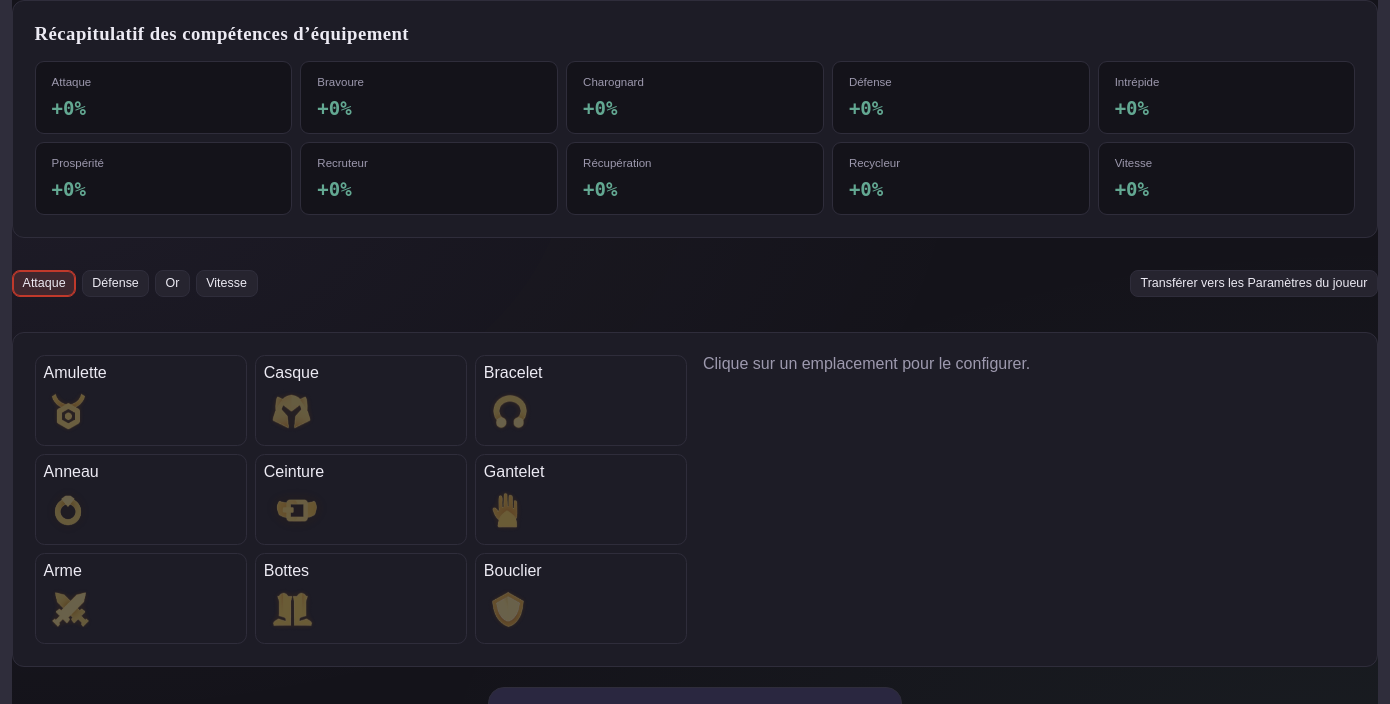
Test: equipment tools › keeps each family's own configuration independent while the global summary always aggregates all 4 (Bloc 32/D.2-D.3)
Click the button "Défense" at [116, 283], box left=82, top=270, right=149, bottom=297
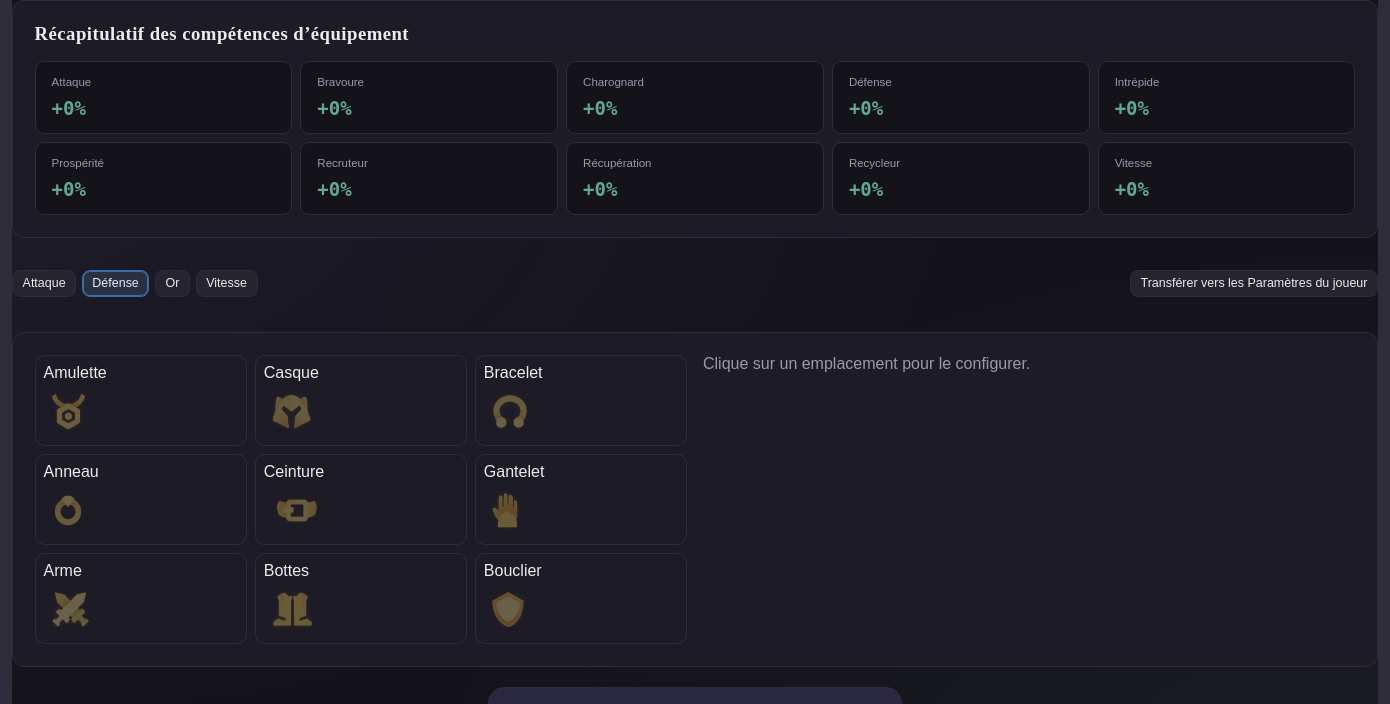
Click the button "Amulette" at [141, 400], box left=35, top=354, right=247, bottom=446
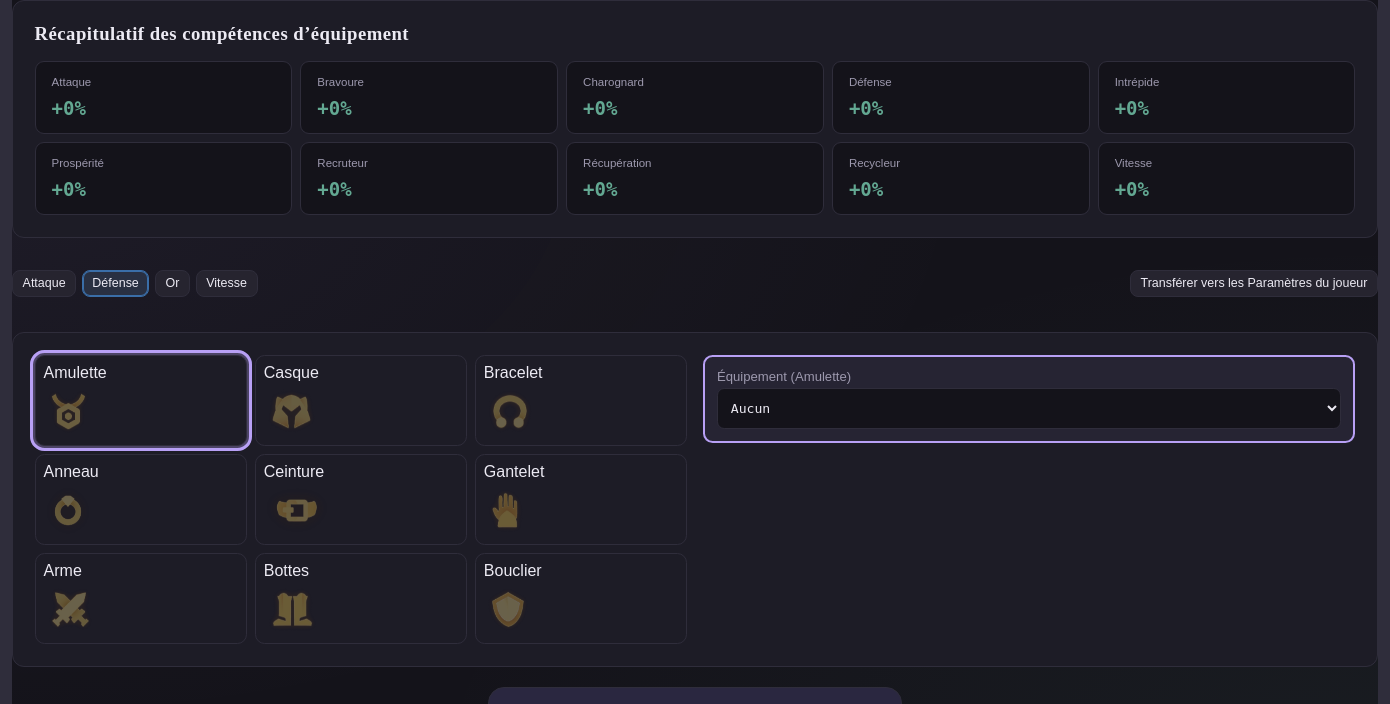
Select "Commun — Cap Test (Or)" in the dropdown named "Équipement Défense Amulette" at [1029, 409], box left=717, top=388, right=1341, bottom=429
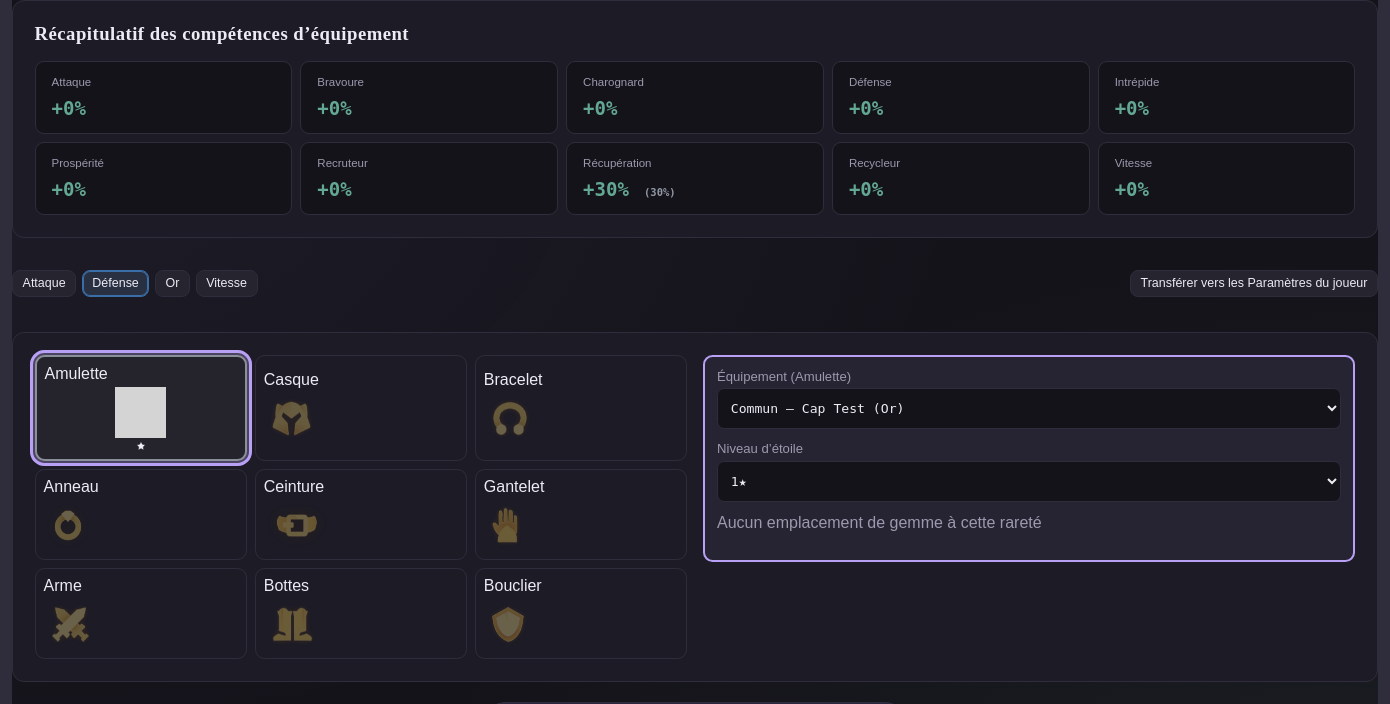
Expected: the picture named "1 étoiles" is shown, left=136, top=441, right=146, bottom=451
Expected: the text "Récupération" shows "+30%", left=566, top=142, right=824, bottom=215
Click the button "Attaque" at [44, 283], box left=12, top=270, right=76, bottom=297
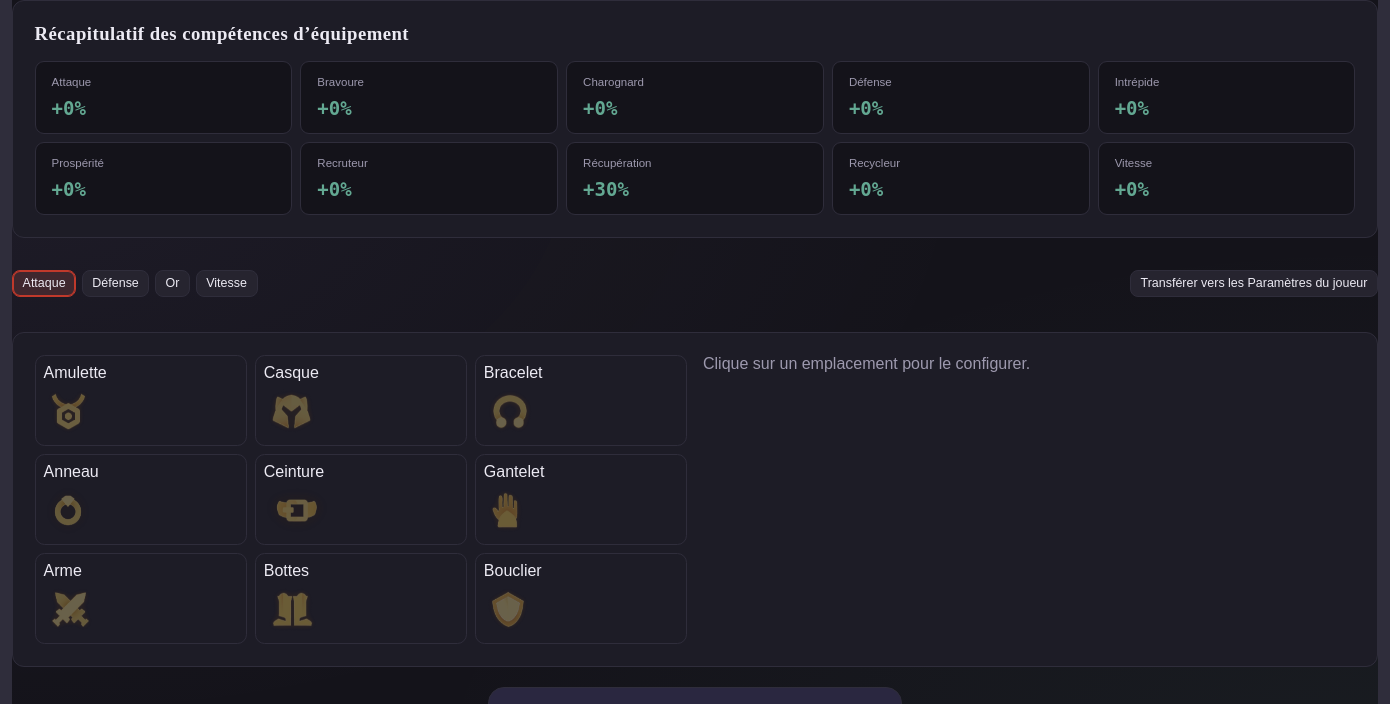
Expected: the text "Récupération" shows "+30%", left=566, top=142, right=824, bottom=215
Expected: the 1st picture named "Vide" is shown, left=44, top=386, right=93, bottom=437
Click the button "Défense" at [116, 283], box left=82, top=270, right=149, bottom=297
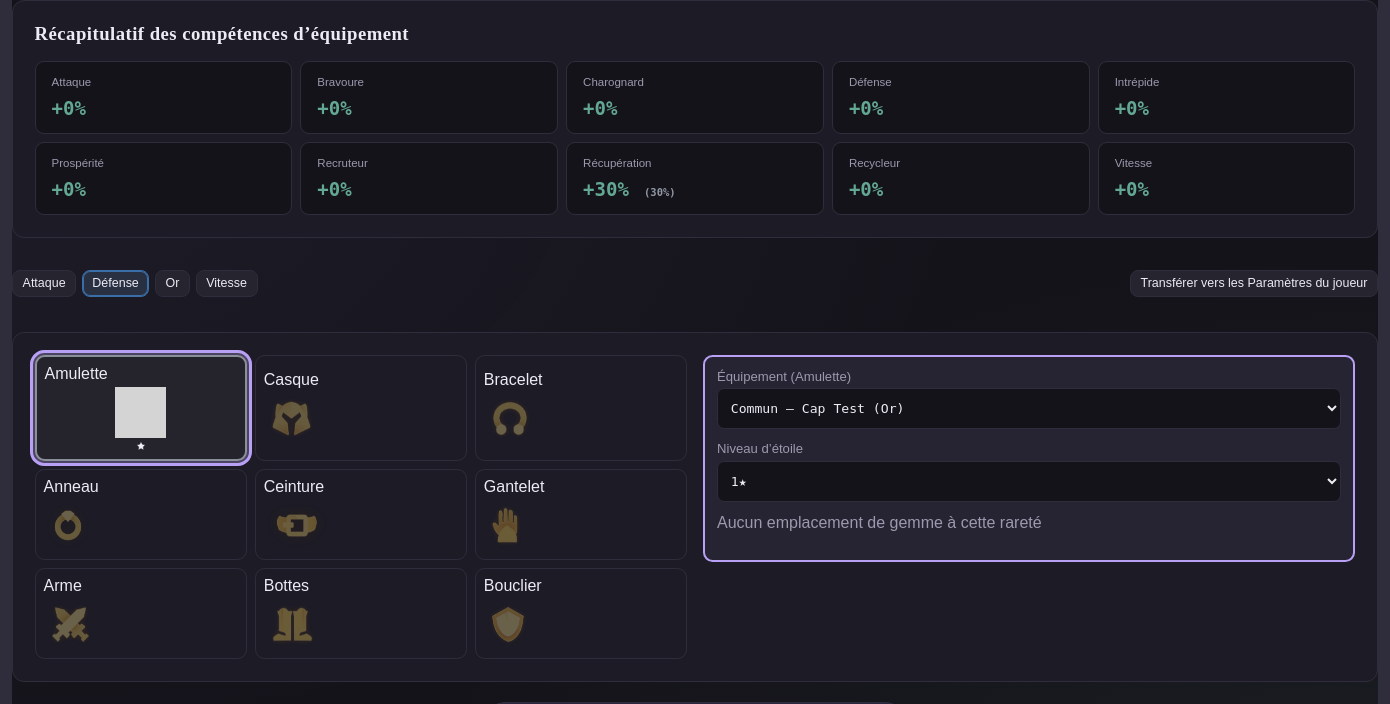
Expected: the picture named "1 étoiles" is shown, left=136, top=441, right=146, bottom=451
